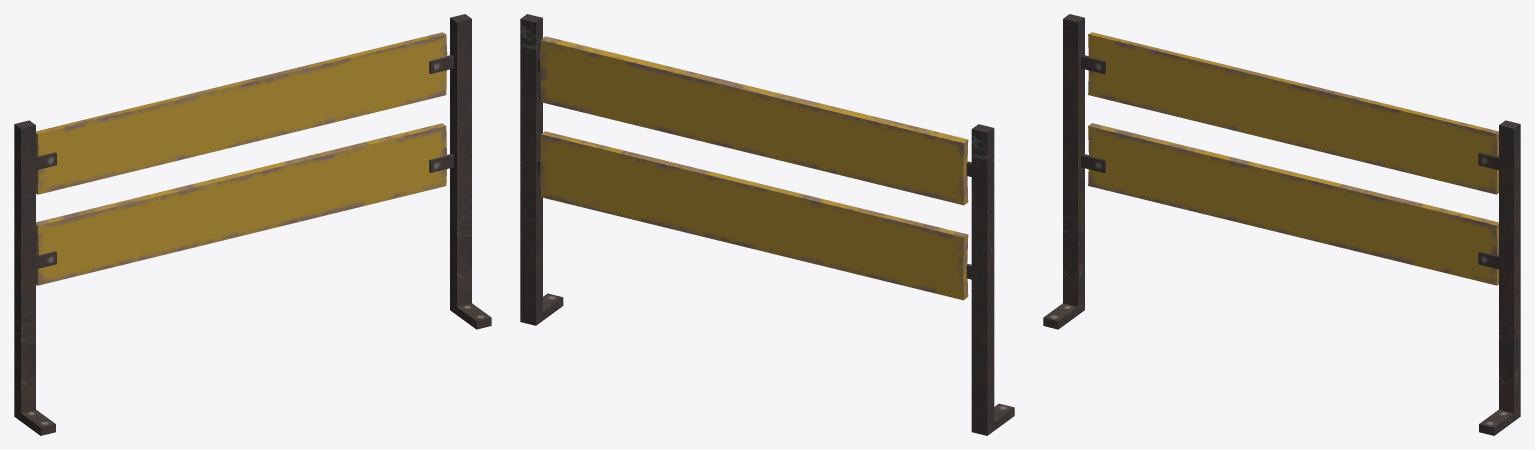
File: SM_Exterior_1__Barrier_2.gltf
The picture shows the model from 3 angles, left to right: view 1: azimuth 30°, elevation 25°; view 2: azimuth 150°, elevation 25°; view 3: azimuth 330°, elevation 25°; orthographic projection. The views are drawn at different scales.
Visible parts, largest first — view 1: SM_Exterior_1__Barrier_11; view 2: SM_Exterior_1__Barrier_11; view 3: SM_Exterior_1__Barrier_11.
Boxes of the visible parts, <box> form: SM_Exterior_1__Barrier_11: <box>14,14,491,435</box>; SM_Exterior_1__Barrier_11: <box>520,14,1014,435</box>; SM_Exterior_1__Barrier_11: <box>1043,14,1520,435</box>.
Bounding box in the file's own units: 1.55 × 0.9621 × 0.1661.
Materials: 1 (1 with a texture image).
